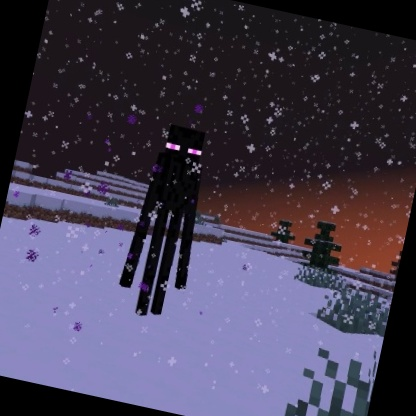enderman: (111, 117, 222, 327)
